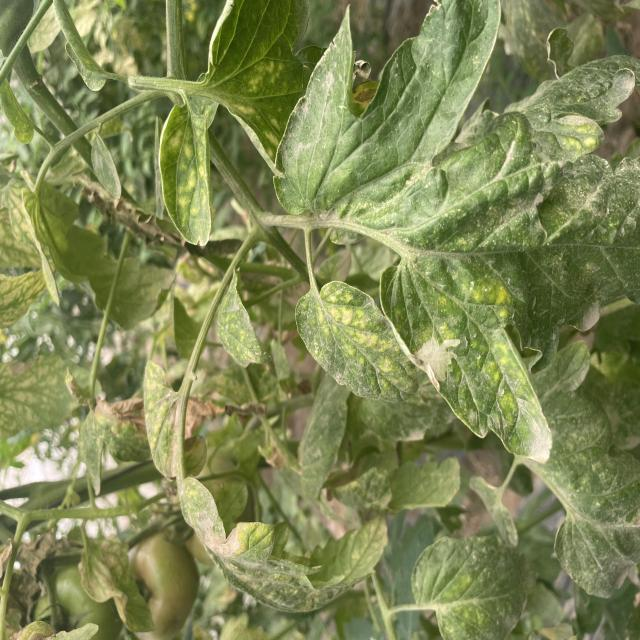Tuta absoluta: (407, 323, 476, 391)
